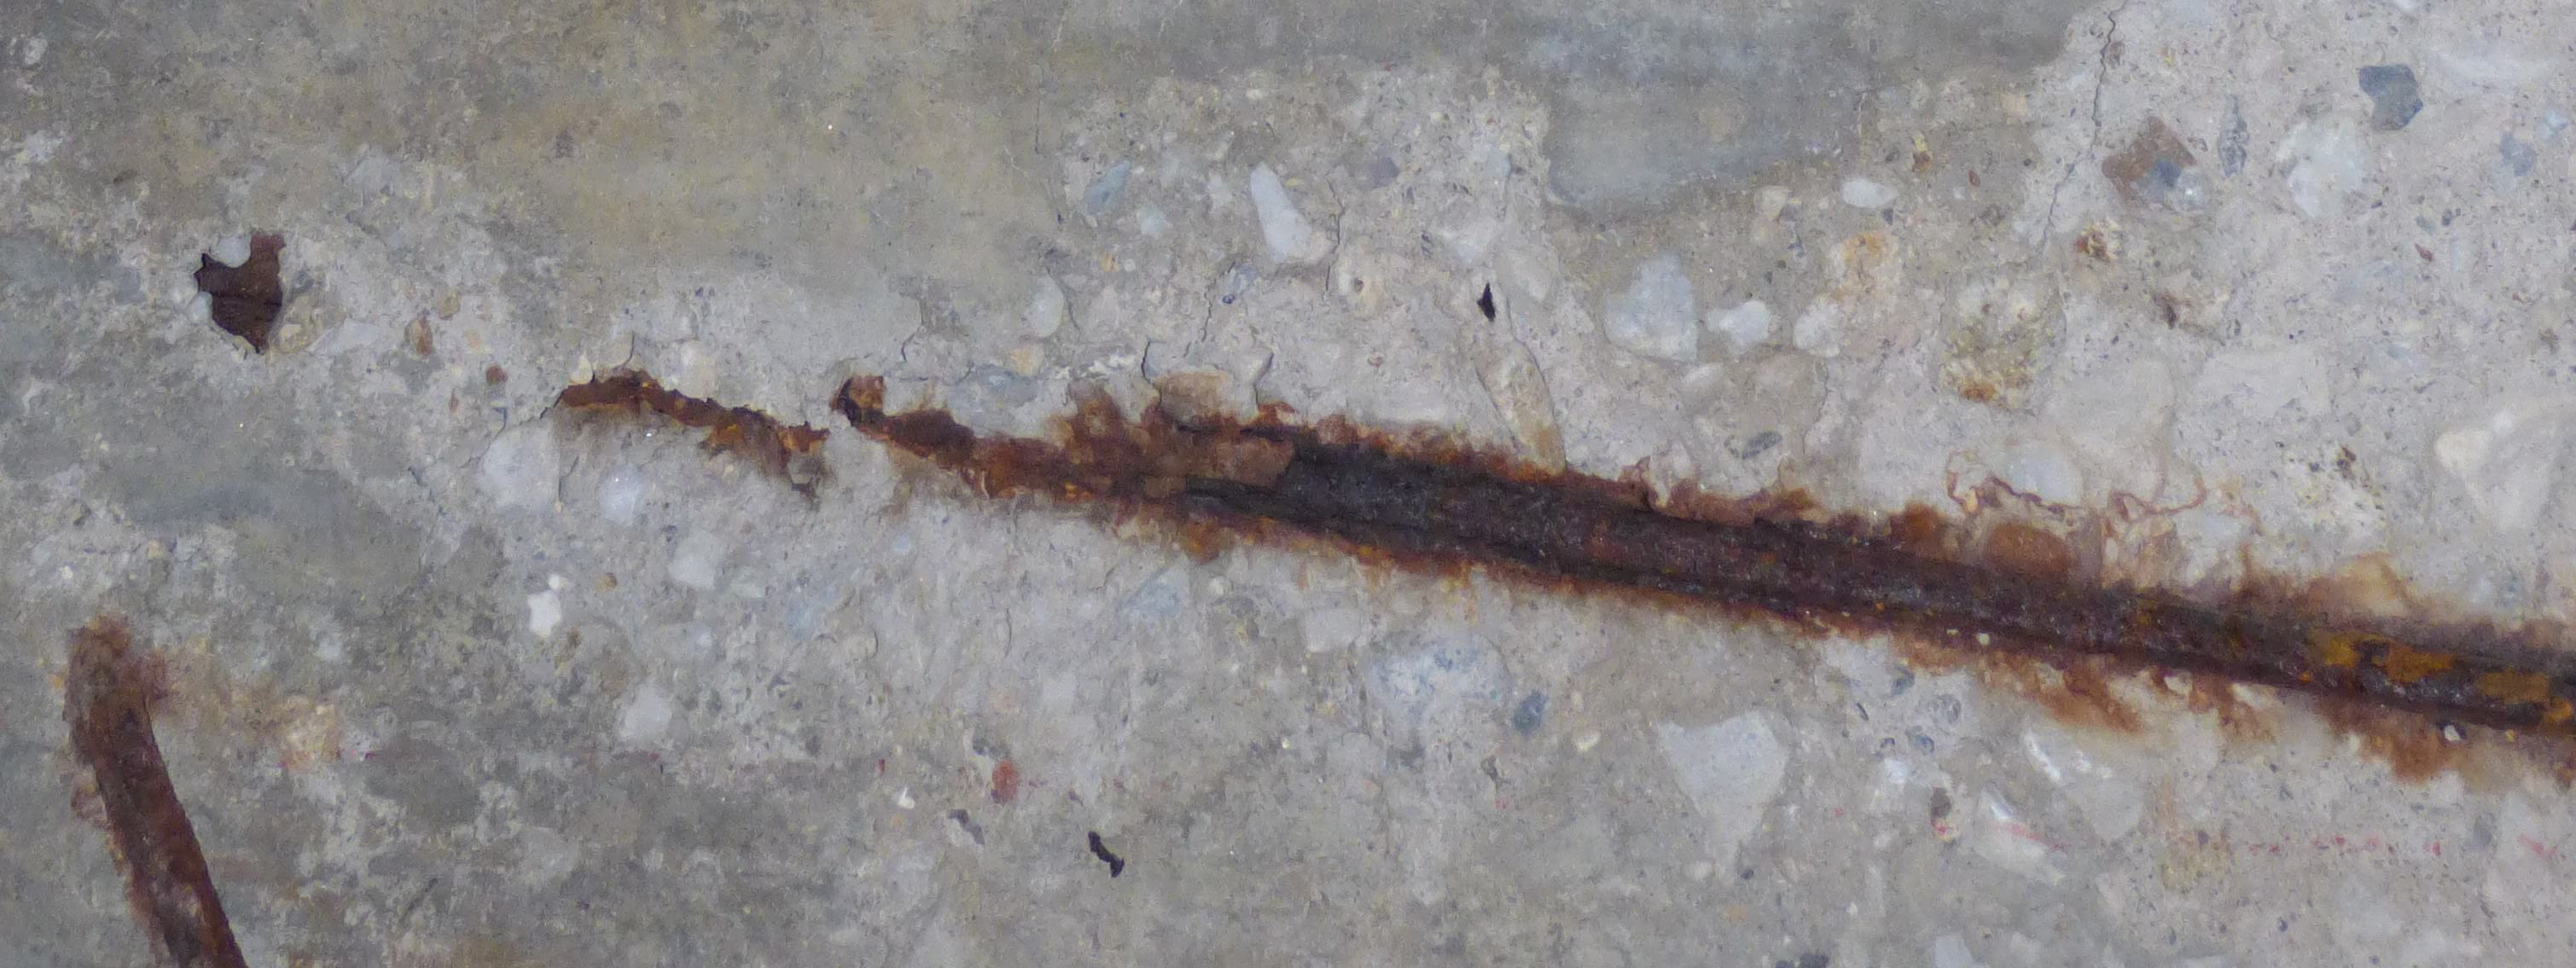Corrosion: (828, 371, 1184, 557), (560, 368, 828, 498), (192, 233, 287, 357)
Exposed reinforcement: (1184, 431, 2576, 733), (62, 626, 248, 968)
